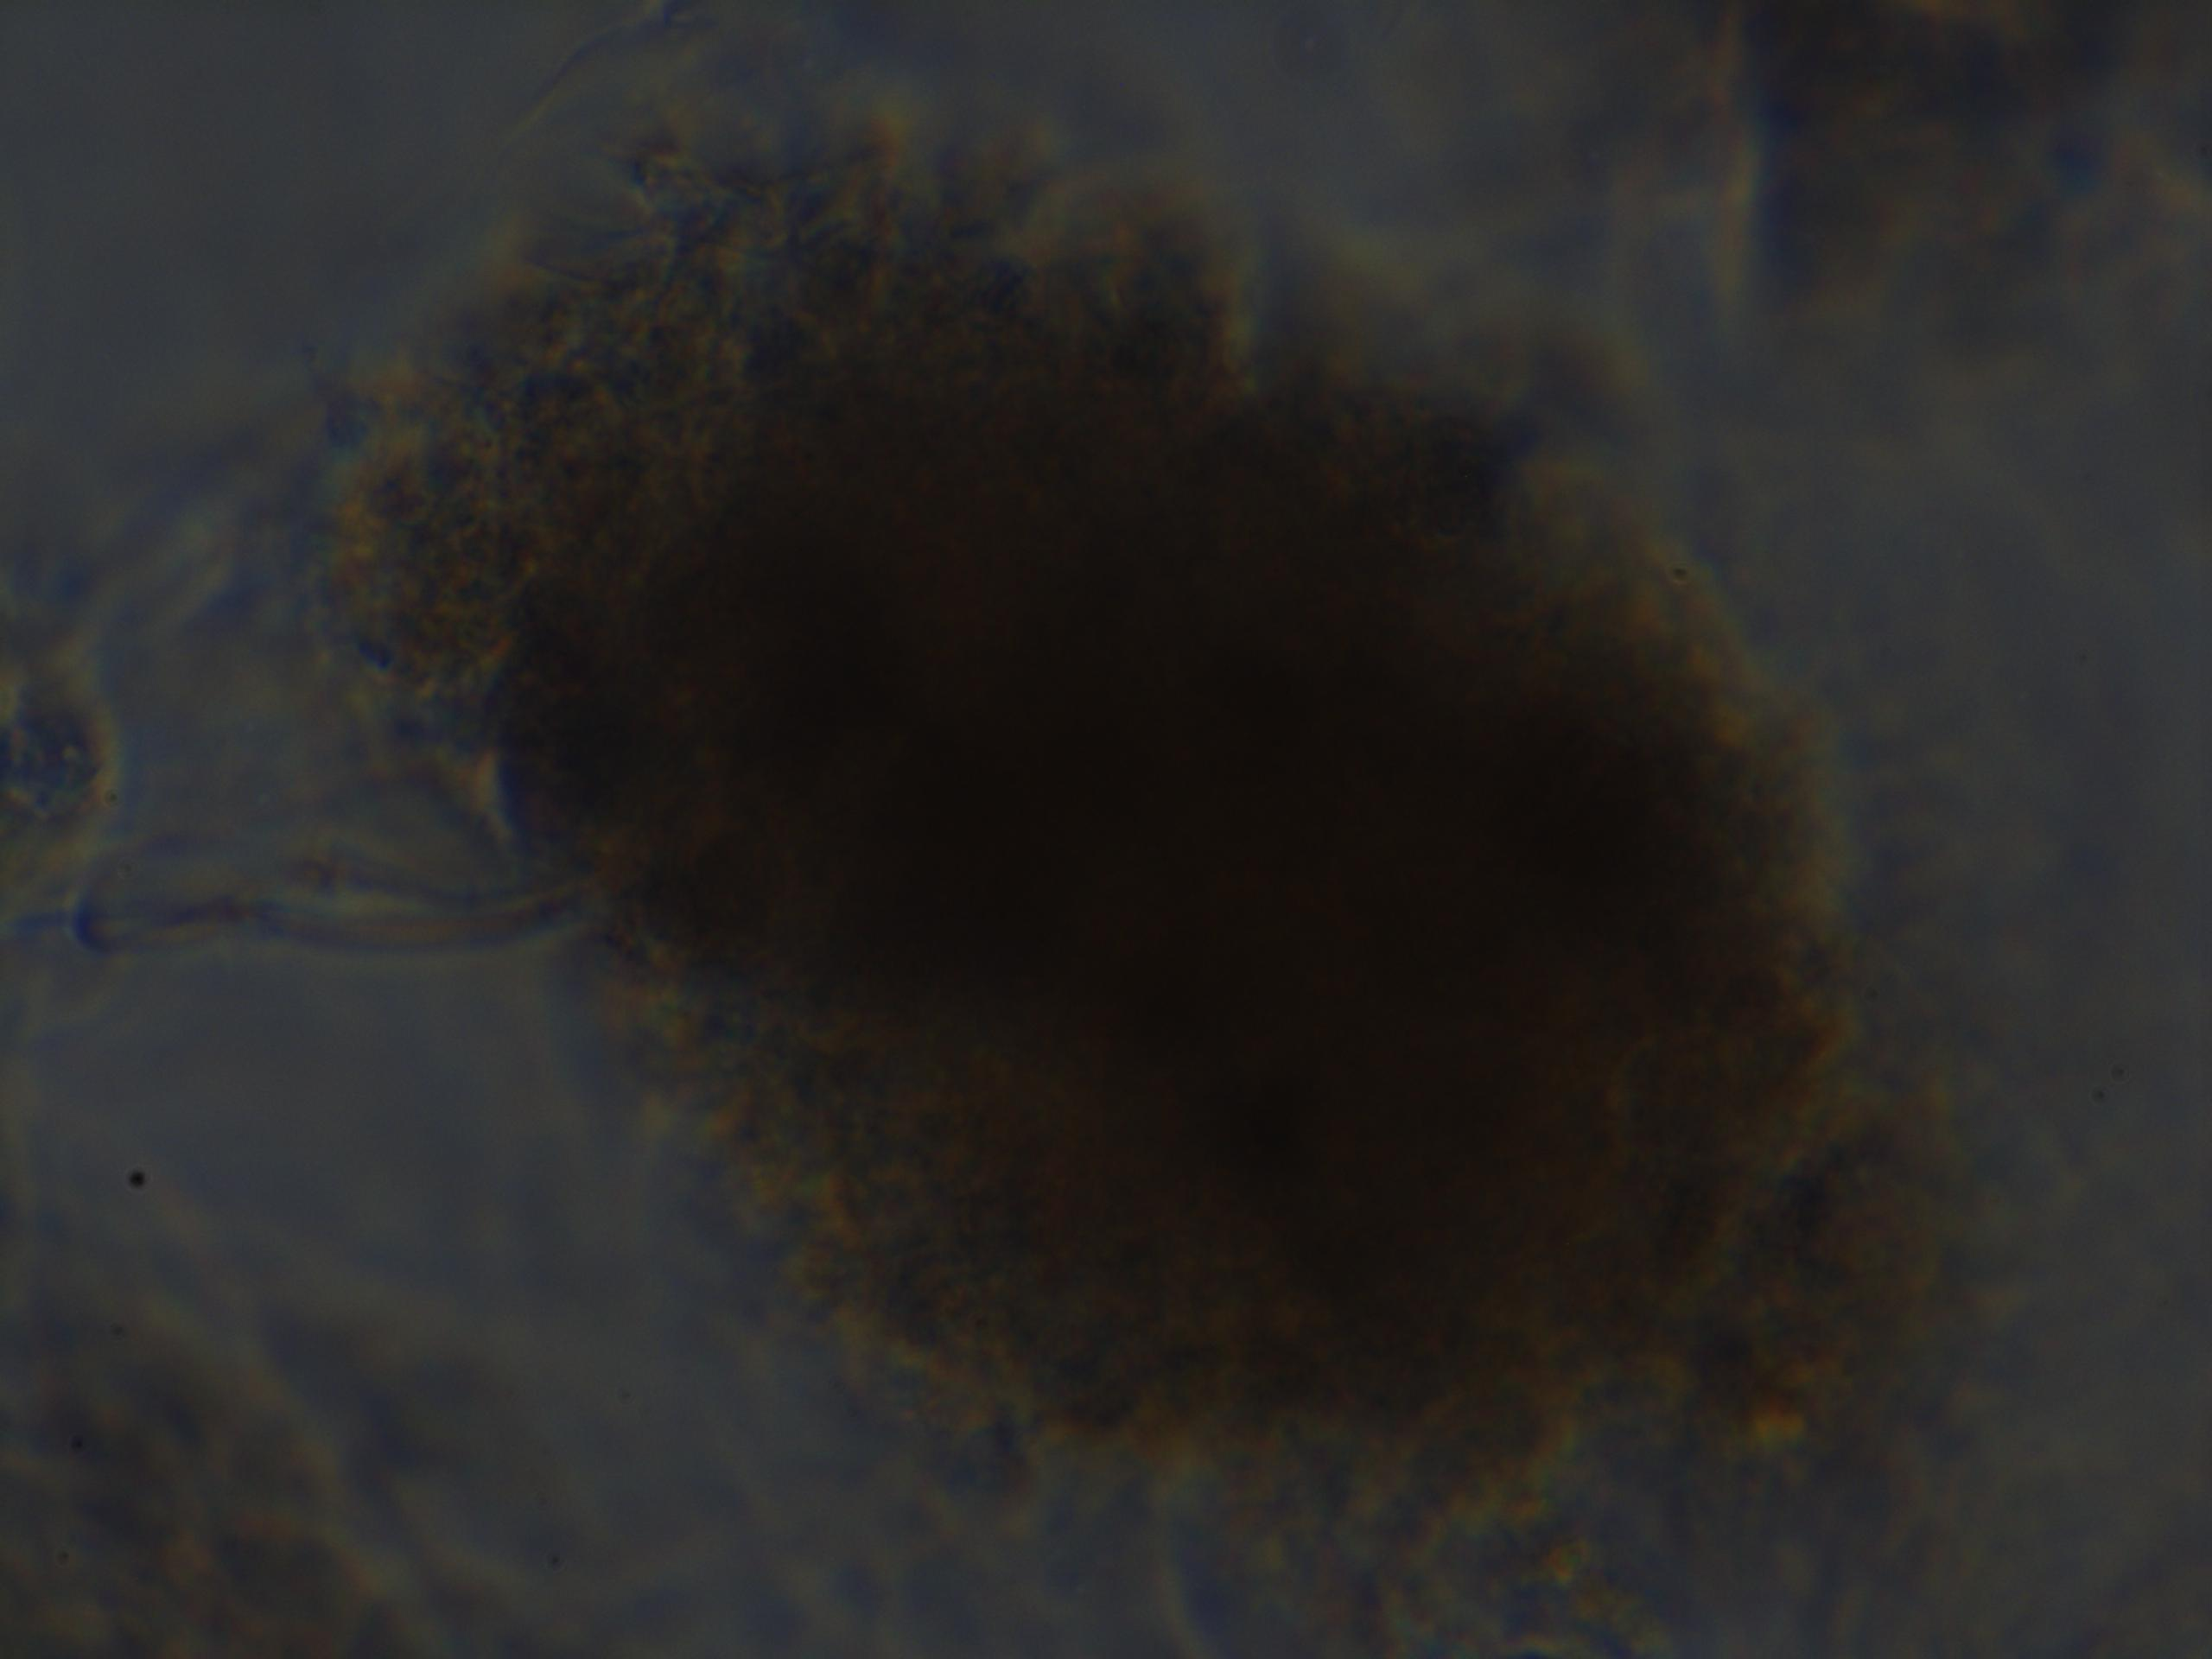spherical_floc: (415, 125, 1883, 1476)
